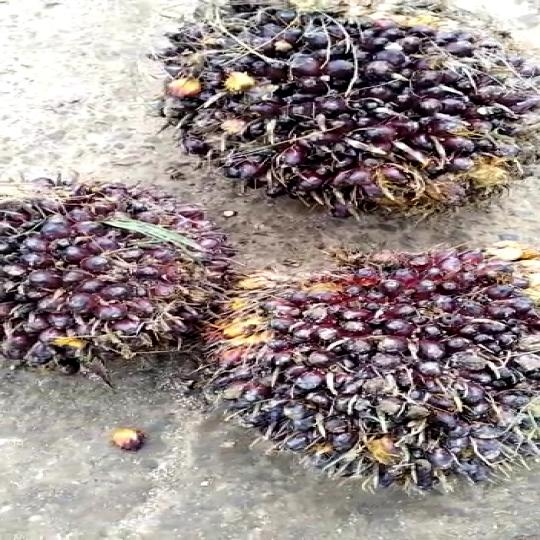kurang masak: (160, 0, 540, 210), (227, 247, 540, 498), (0, 171, 252, 388)
